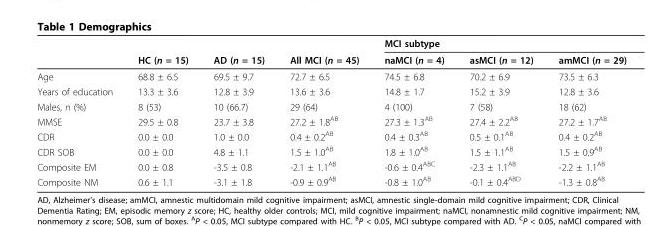table: (36, 37, 625, 187)
table column: (276, 37, 371, 187), (456, 37, 545, 187), (36, 37, 124, 187), (371, 37, 456, 187), (545, 37, 625, 187), (124, 37, 200, 187), (200, 37, 276, 187)
table column header: (36, 37, 625, 67)
table row: (36, 51, 625, 67), (36, 67, 625, 83), (36, 83, 625, 98), (36, 98, 625, 113), (36, 113, 625, 128), (36, 128, 625, 143), (36, 143, 625, 158), (36, 158, 625, 173), (36, 37, 625, 51), (36, 173, 625, 187)
table spanning cell: (371, 37, 625, 51), (276, 37, 371, 67), (124, 37, 200, 67), (200, 37, 276, 67)
